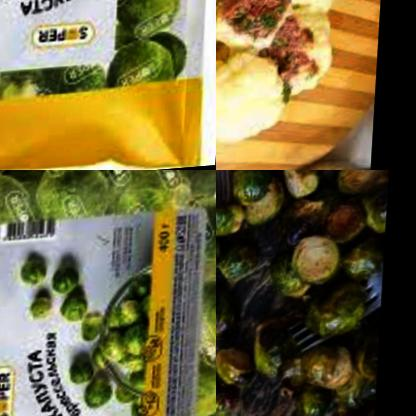brus capusta: (250, 170, 391, 416), (0, 170, 216, 233), (99, 275, 169, 382), (121, 0, 186, 86), (216, 170, 286, 240), (54, 247, 100, 325), (6, 254, 49, 306), (69, 372, 114, 413), (55, 351, 95, 394), (21, 289, 58, 329)
cayliflower: (261, 9, 345, 108), (216, 60, 297, 153), (248, 0, 353, 30)
